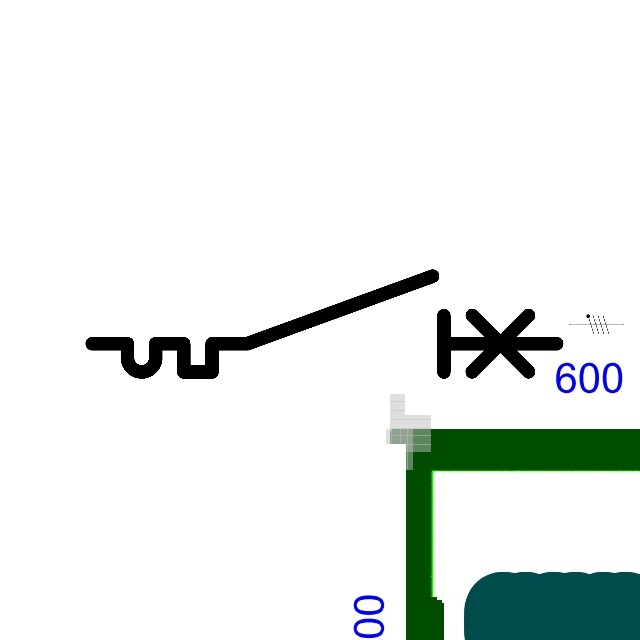interruptor_termomagnetico: (80, 264, 569, 384)
